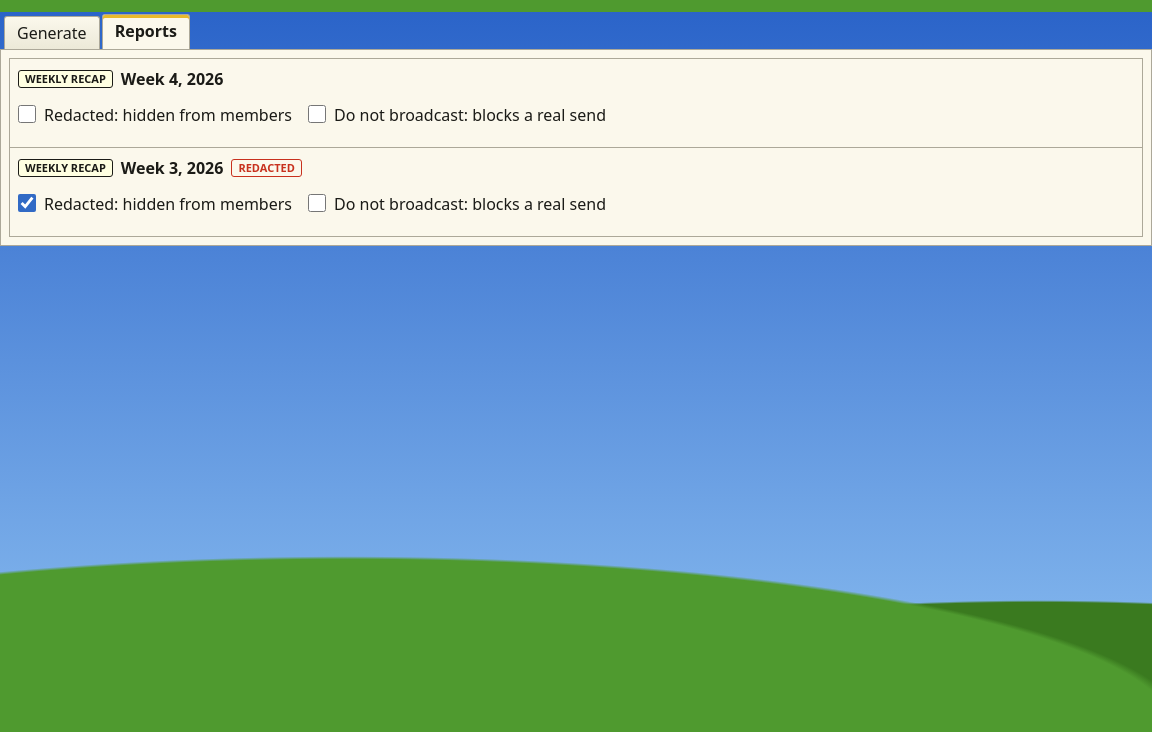
Test: Admin: AI Review › flags a report and keeps the server's metadata
The width and height of the screenshot is (1152, 732).
Click the checkbox labelled "Redacted: hidden from members" below "Week 4, 2026" at (27, 114), box top-left (18, 105), bottom-right (36, 123)
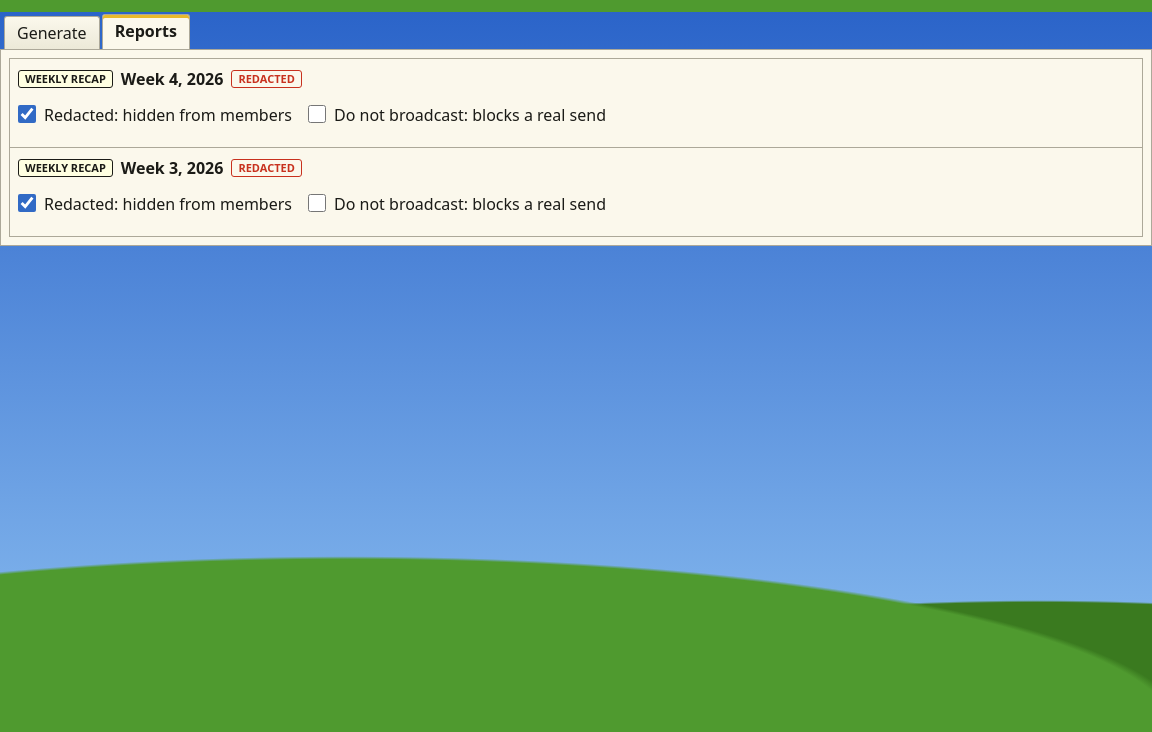
Check: the checkbox labelled "Redacted: hidden from members" below "Week 3, 2026" is checked, box top-left (18, 194), bottom-right (36, 212)
Check: the text "Redacted" next to "Week 4, 2026" is shown, box top-left (238, 71), bottom-right (295, 86)
